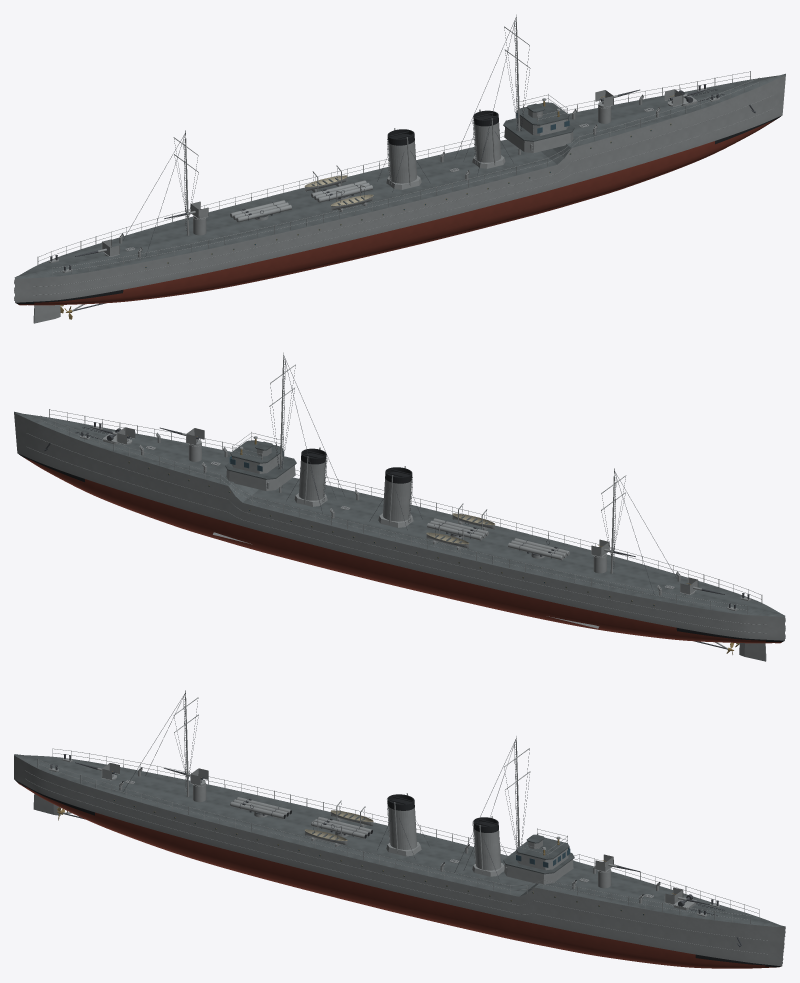
The picture shows the model from 3 angles, top to bottom: view 1: azimuth 30°, elevation 25°; view 2: azimuth 150°, elevation 25°; view 3: azimuth 330°, elevation 25°; orthographic projection.
Parts seen in each view (by area): view 1: V & W class; view 2: V & W class; view 3: V & W class.
Part boxes in pixels (x1,y1,x2,y2): V & W class: (14,14,785,323); V & W class: (14,352,785,661); V & W class: (14,690,785,968).
Bounding box in the file's own units: 95.12 × 22.8 × 9.08.
Materials: 9 (8 with a texture image).
